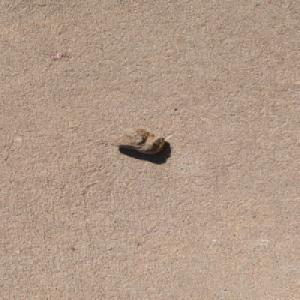Rock: (108, 127, 166, 154)
